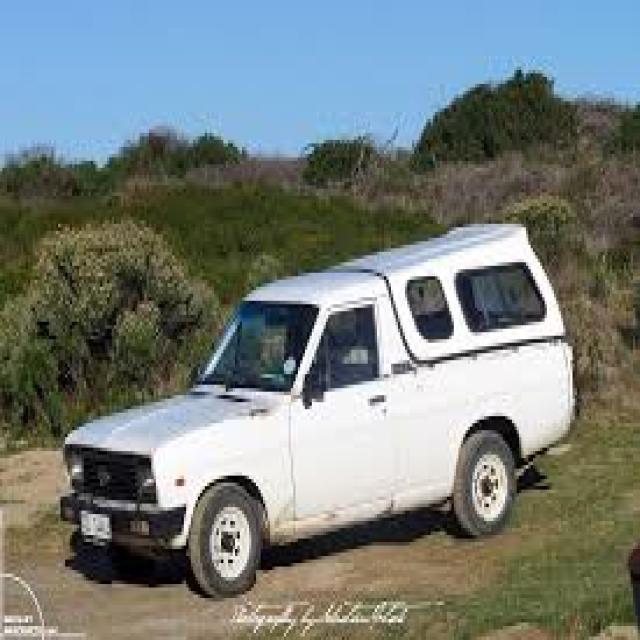Pickup Trucks: (60, 224, 575, 605)
